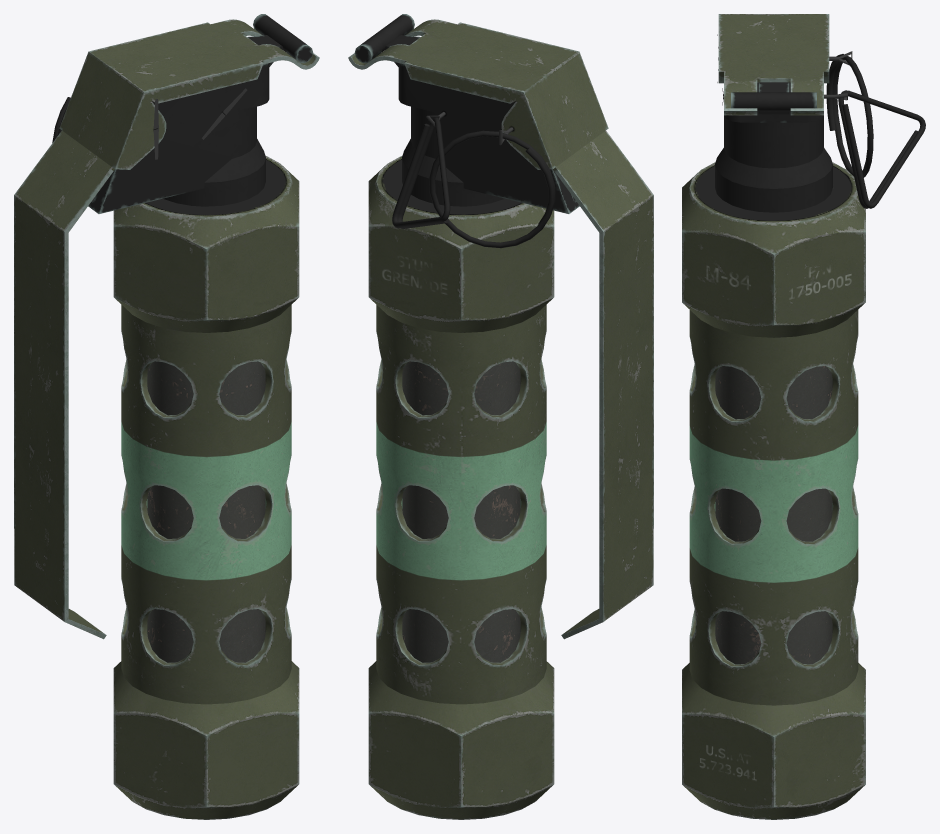
The model's file is flash.glb.
The picture shows the model from 3 angles, left to right: view 1: azimuth 30°, elevation 25°; view 2: azimuth 150°, elevation 25°; view 3: azimuth 270°, elevation 25°; orthographic projection.
Visible parts, largest first — view 1: Body1, Lever, FuzeBody, Body2; view 2: Body1, Lever, FuzeBody, Body2, Ring1, Ring2; view 3: Body1, FuzeBody, Body2, Lever, Ring2, Ring1.
Part boxes in pixels (bbox=[...]): Body1: bbox=[113, 156, 299, 819]; Lever: bbox=[14, 19, 319, 639]; FuzeBody: bbox=[88, 14, 312, 213]; Body2: bbox=[147, 361, 265, 662]; Body1: bbox=[368, 156, 554, 819]; Lever: bbox=[348, 19, 653, 639]; FuzeBody: bbox=[355, 14, 579, 213]; Body2: bbox=[402, 361, 520, 662]; Ring1: bbox=[429, 130, 555, 248]; Ring2: bbox=[392, 117, 450, 228]; Body1: bbox=[682, 162, 865, 819]; FuzeBody: bbox=[715, 82, 832, 212]; Body2: bbox=[715, 366, 832, 664]; Lever: bbox=[718, 14, 829, 115]; Ring2: bbox=[838, 90, 925, 208]; Ring1: bbox=[826, 54, 873, 177].
Bounding box in the file's own units: 0.0908 × 0.2453 × 0.0745.
Materials: 1 (1 with a texture image).
